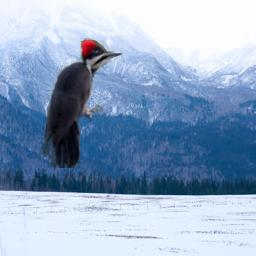Woodpecker: (41, 38, 124, 168)
